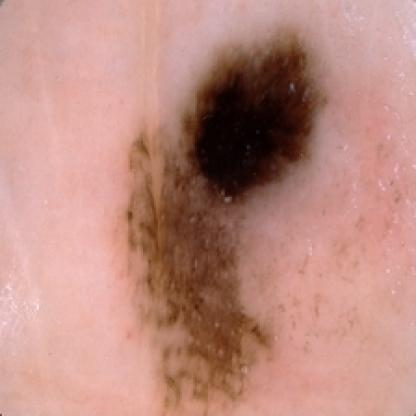Skin_Cancer-Malignant: (123, 26, 327, 416)
